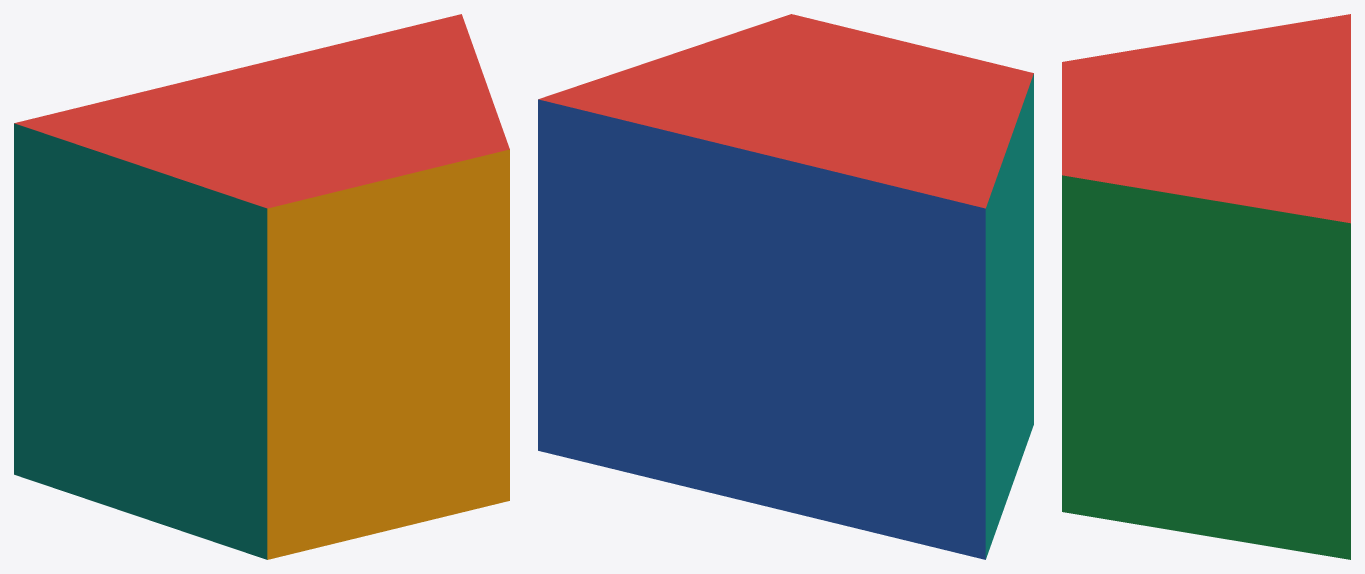
File: prisma-trapesium.glb
3 views of the same model, side by side, from view 1: azimuth 30°, elevation 25°; view 2: azimuth 150°, elevation 25°; view 3: azimuth 270°, elevation 25° (orthographic). The views are drawn at different scales.
Visible parts, largest first — view 1: tegak4, tegak3, atas; view 2: tegak1, atas, tegak4; view 3: tegak2, atas.
Boxes of the visible parts, x1,y1,x2,y2 form: tegak4: [14, 123, 267, 559]; tegak3: [267, 149, 509, 559]; atas: [14, 14, 509, 208]; tegak1: [538, 99, 985, 559]; atas: [538, 14, 1033, 208]; tegak4: [985, 74, 1033, 559]; tegak2: [1062, 175, 1350, 559]; atas: [1062, 14, 1350, 223].
Size of the model in its own units: 2.4 by 1.8 by 1.4.
